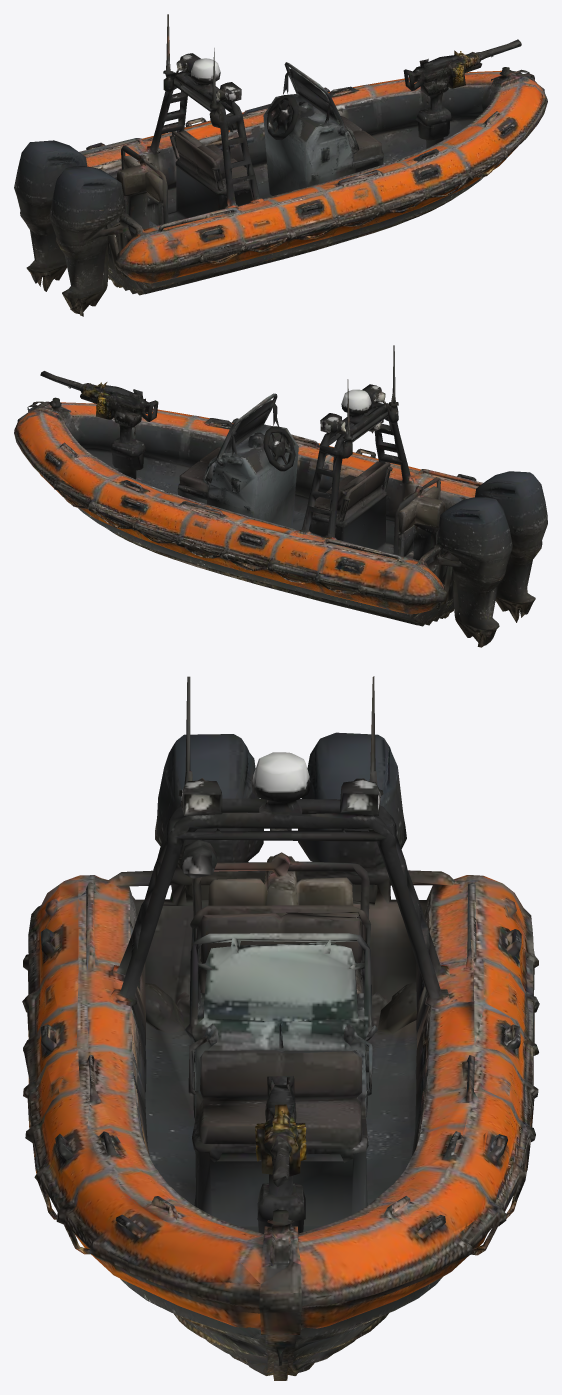
File: boat_rhib.glb
3 renders of one model, top to bottom at view 1: azimuth 30°, elevation 25°; view 2: azimuth 150°, elevation 25°; view 3: azimuth 270°, elevation 25°, orthographic. The views are drawn at different scales.
Visible parts, largest first — view 1: geometry_0; view 2: geometry_0; view 3: geometry_0.
Boxes of the visible parts, x1,y1,x2,y2 form: geometry_0: (14,14,547,316); geometry_0: (14,345,547,647); geometry_0: (22,676,539,1380).
Bounding box in the file's own units: 1.15 × 0.5233 × 0.5125.
1 material, 1 textured.
